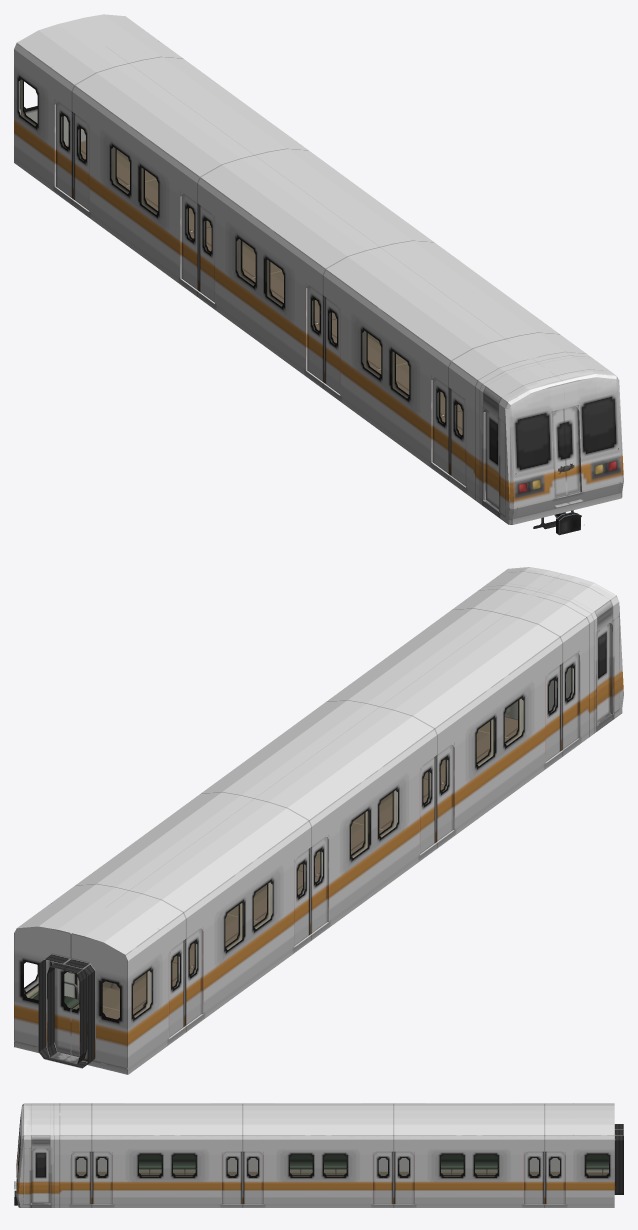
File: dkz_1.obj
The picture shows the model from 3 angles, top to bottom: view 1: azimuth 30°, elevation 25°; view 2: azimuth 150°, elevation 25°; view 3: azimuth 270°, elevation 25°; orthographic projection. The views are drawn at different scales.
Parts seen in each view (by area): view 1: window_exterior, head_exterior, end_exterior, door_right_negative_exterior, door_right_positive_exterior, window, end; view 2: window_exterior, end_exterior, head_exterior, window, door_right_positive_exterior, door_right_negative_exterior, end, head; view 3: window_exterior, head_exterior, end_exterior, door_left_negative_exterior, door_left_positive_exterior, window, door_right_positive, door_right_negative, end.
Part boxes in pixels (left/top/right/bottom): window_exterior: left=72, top=57, right=559, bottom=480; head_exterior: left=448, top=332, right=623, bottom=535; end_exterior: left=14, top=14, right=182, bottom=204; door_right_negative_exterior: left=56, top=101, right=449, bottom=474; door_right_positive_exterior: left=73, top=112, right=465, bottom=486; window: left=111, top=147, right=462, bottom=435; end: left=21, top=79, right=156, bottom=186; window_exterior: left=75, top=608, right=562, bottom=1031; end_exterior: left=14, top=884, right=186, bottom=1074; head_exterior: left=452, top=567, right=623, bottom=756; window: left=77, top=698, right=523, bottom=1013; door_right_positive_exterior: left=185, top=653, right=578, bottom=1025; door_right_negative_exterior: left=169, top=664, right=561, bottom=1037; end: left=22, top=933, right=151, bottom=1020; head: left=478, top=636, right=571, bottom=737; window_exterior: left=92, top=1103, right=544, bottom=1207; head_exterior: left=14, top=1103, right=91, bottom=1207; end_exterior: left=544, top=1103, right=623, bottom=1207; door_left_negative_exterior: left=92, top=1151, right=565, bottom=1204; door_left_positive_exterior: left=71, top=1151, right=544, bottom=1204; window: left=92, top=1135, right=544, bottom=1176; door_right_positive: left=76, top=1158, right=538, bottom=1172; door_right_negative: left=97, top=1158, right=559, bottom=1172; end: left=544, top=1135, right=608, bottom=1176.
Size of the model in its own units: 2.62 by 3.41 by 20.2.
Materials: 4 (4 with a texture image).
